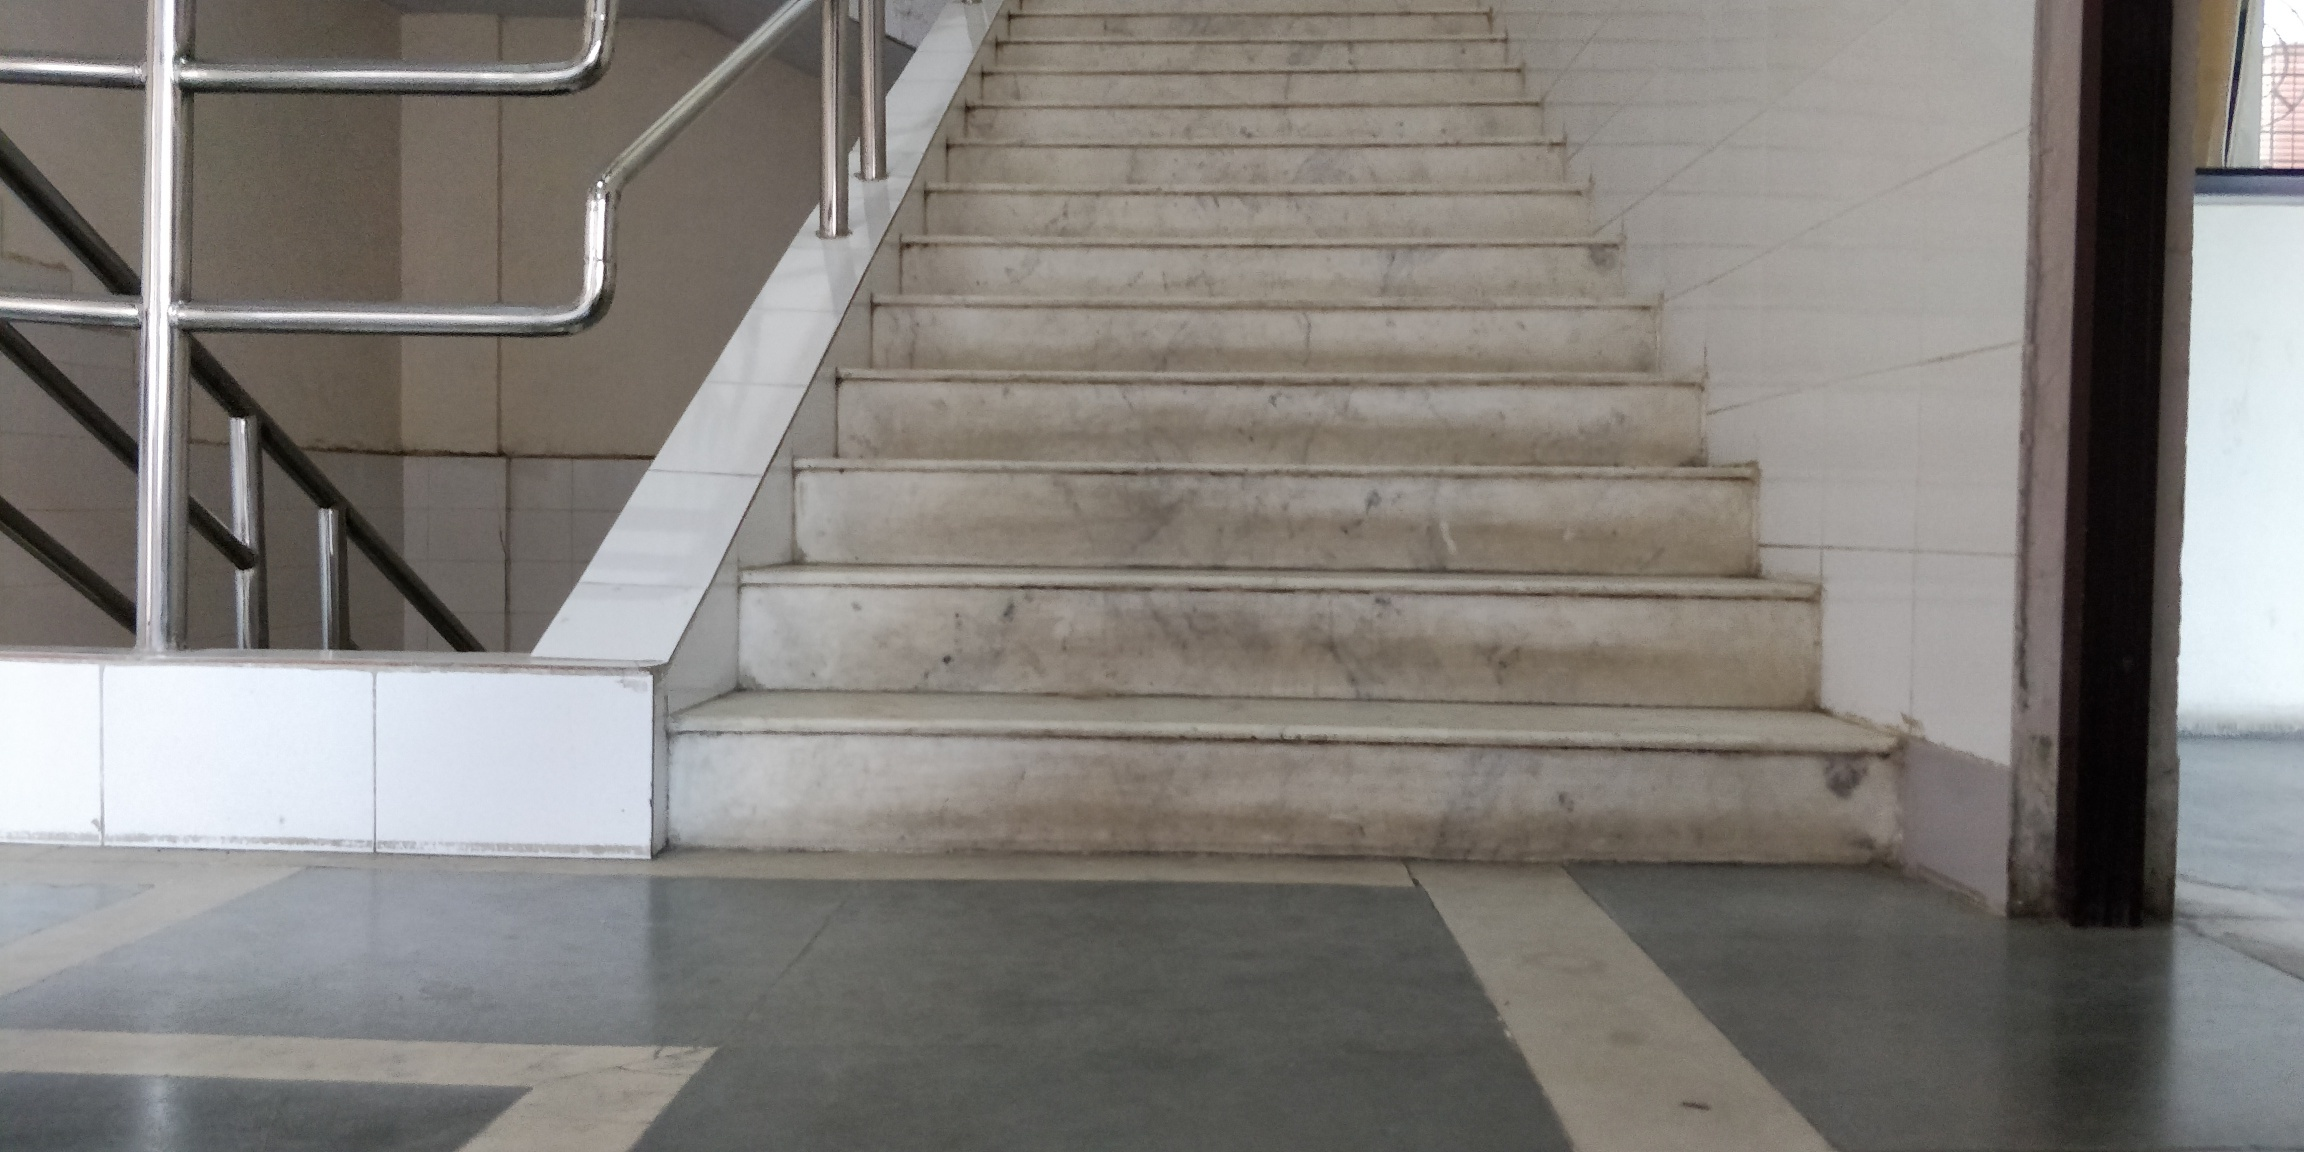stairs_up: (661, 26, 1941, 917)
